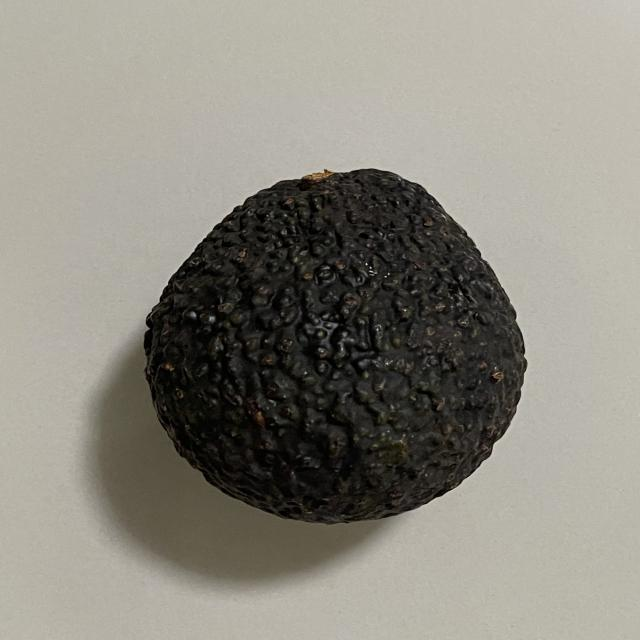avocado: (127, 151, 548, 537)
